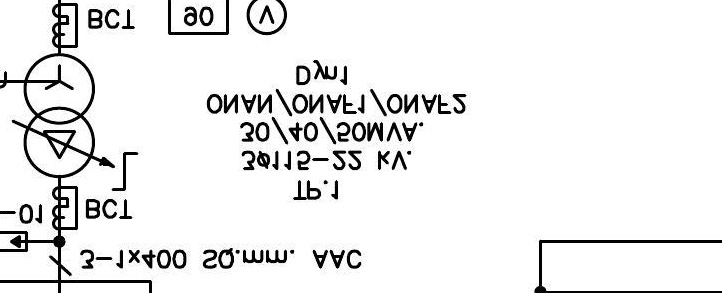11522_tx_dyn1: (23, 52, 96, 179)
